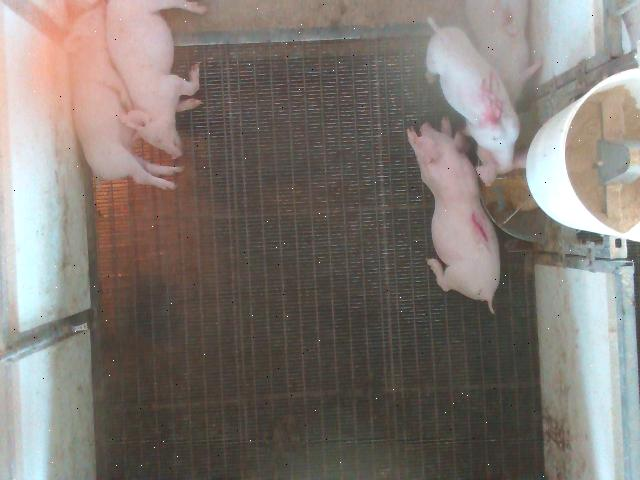pig-1: (408, 118, 500, 312)
pig-3: (466, 2, 540, 105)
pig-5: (428, 21, 526, 185)
